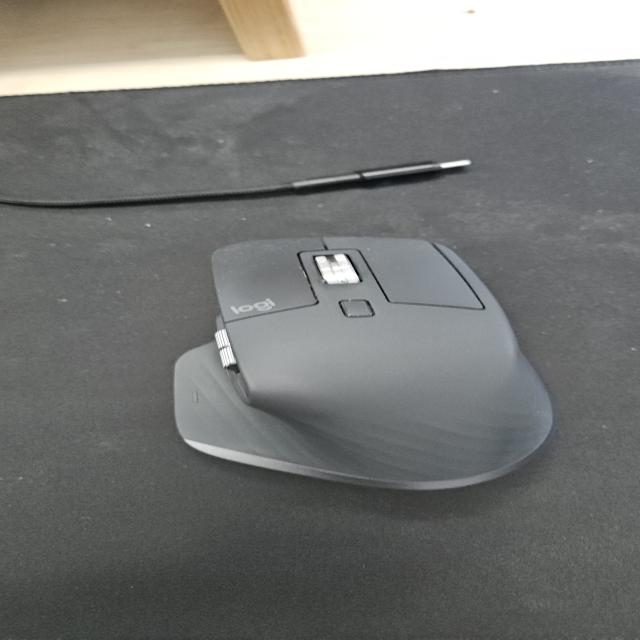Mouse: (169, 234, 557, 492)
